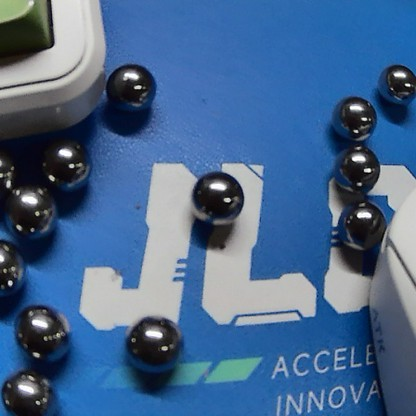ironball: (117, 307, 185, 376), (188, 167, 250, 229), (9, 300, 69, 363), (35, 136, 107, 188), (99, 57, 156, 111), (335, 195, 383, 255), (330, 141, 382, 190), (331, 85, 376, 140), (4, 182, 49, 234), (2, 371, 53, 414), (0, 241, 27, 310), (374, 56, 411, 104), (0, 156, 20, 189)
